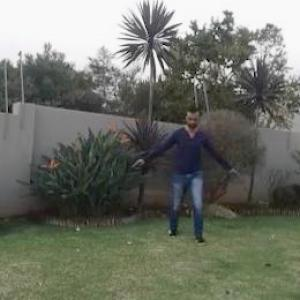land: (121, 97, 238, 245)
